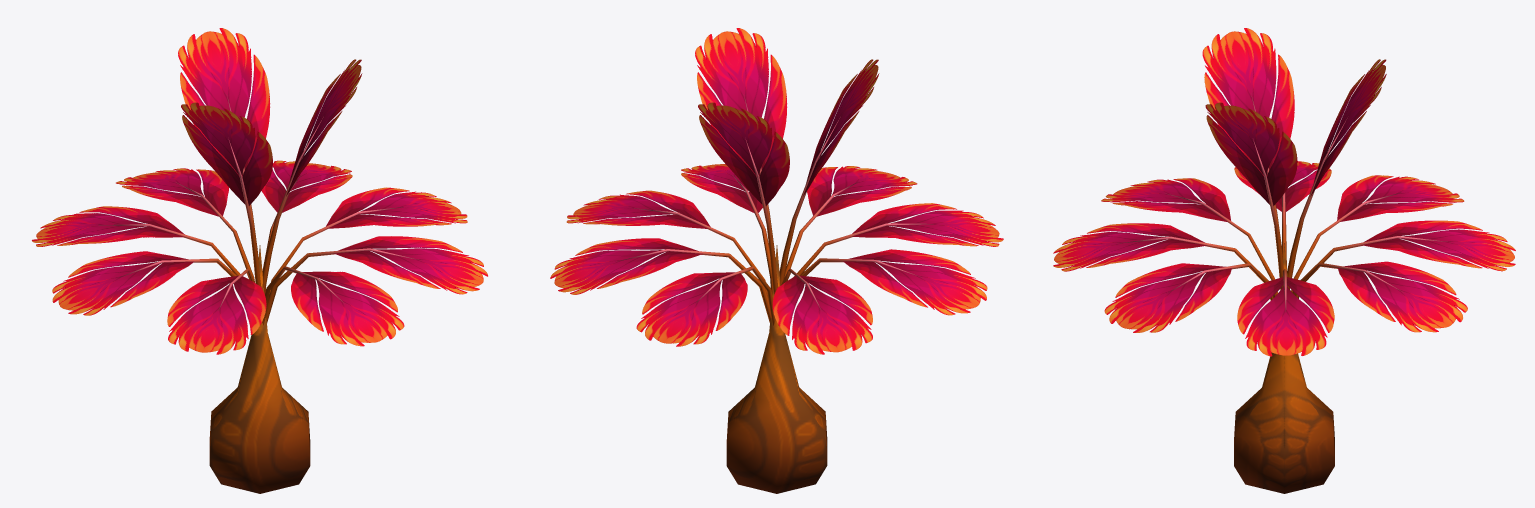
File: Red_Tree_01d.FBX
3 renders of one model, left to right at view 1: azimuth 30°, elevation 25°; view 2: azimuth 150°, elevation 25°; view 3: azimuth 270°, elevation 25°, orthographic.
Parts seen in each view (by area): view 1: Red_Tree_01d; view 2: Red_Tree_01d; view 3: Red_Tree_01d.
Boxes of the visible parts, x1,y1,x2,y2 form: Red_Tree_01d: (32,28,487,493); Red_Tree_01d: (550,28,1003,493); Red_Tree_01d: (1053,28,1515,493).
Size of the model in its own units: 175 by 172 by 175.
